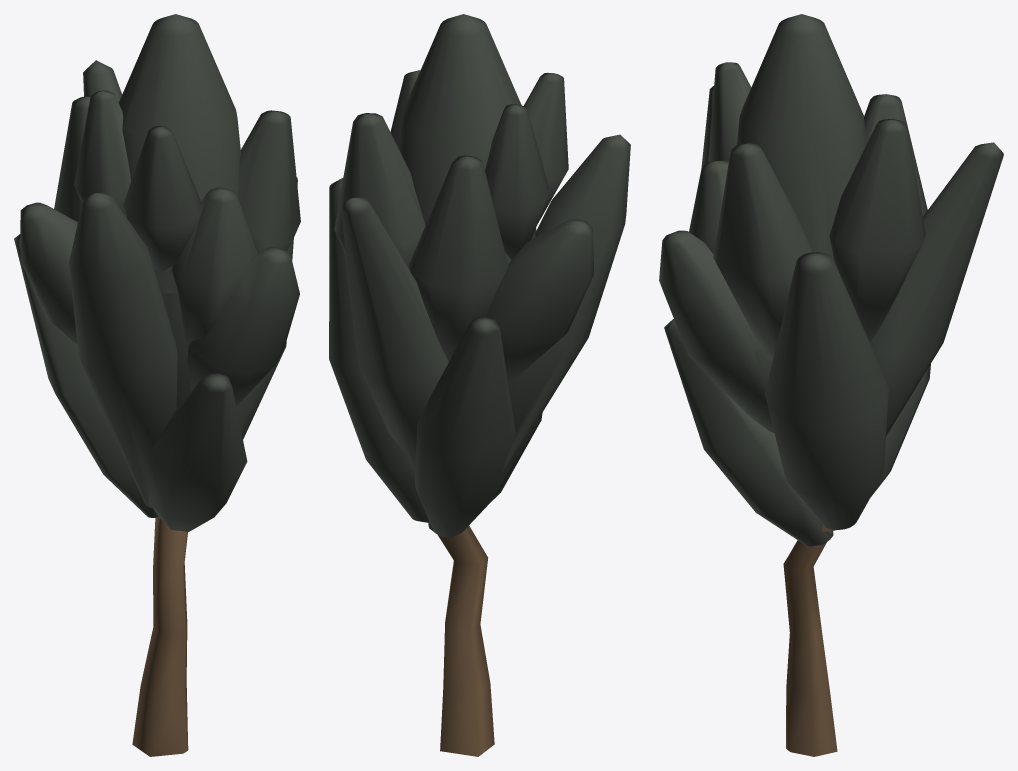
Rendered from Tree4.fbx.
3 renders of one model, left to right at view 1: azimuth 30°, elevation 25°; view 2: azimuth 150°, elevation 25°; view 3: azimuth 270°, elevation 25°, orthographic.
Visible parts, largest first — view 1: Tree4; view 2: Tree4; view 3: Tree4.
Part boxes in pixels (x1,y1,x2,y2): Tree4: (14, 14, 300, 756); Tree4: (329, 14, 630, 756); Tree4: (659, 14, 1003, 756).
Size of the model in its own units: 3.47 by 9.06 by 3.86.
